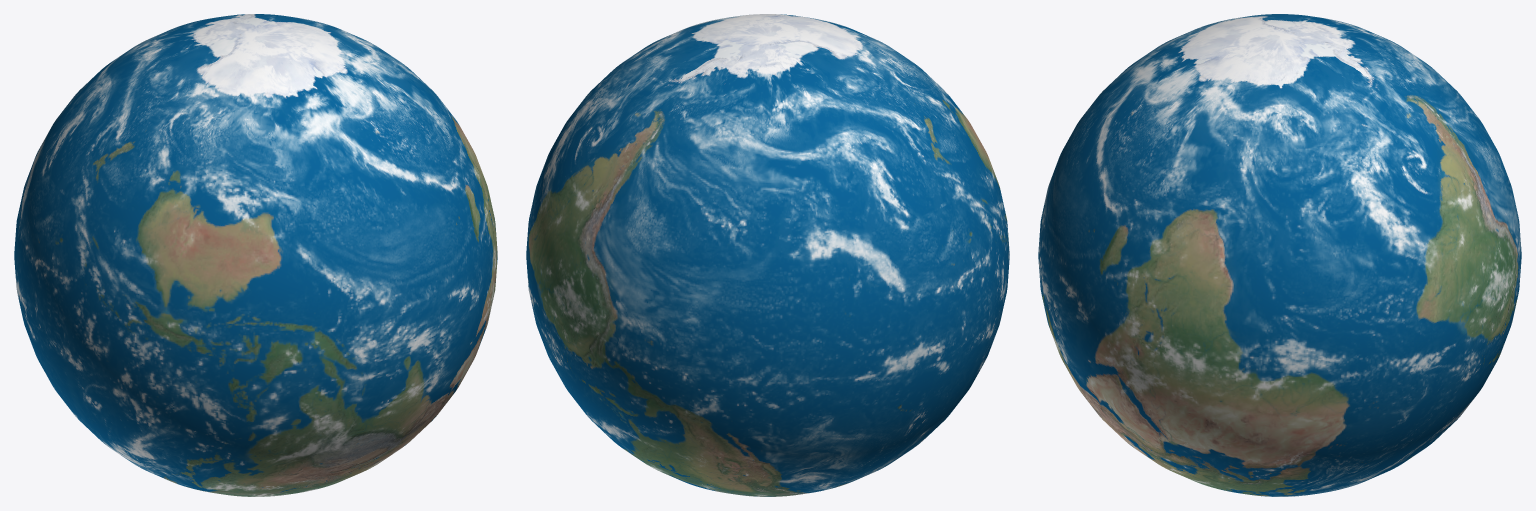
File: earth.obj
The picture shows the model from 3 angles, left to right: view 1: azimuth 30°, elevation 25°; view 2: azimuth 150°, elevation 25°; view 3: azimuth 270°, elevation 25°; orthographic projection.
Parts seen in each view (by area): view 1: Sphere_Sphere.006; view 2: Sphere_Sphere.006; view 3: Sphere_Sphere.006.
Part boxes in pixels (x1,y1,x2,y2): Sphere_Sphere.006: (14, 14, 497, 496); Sphere_Sphere.006: (526, 14, 1009, 496); Sphere_Sphere.006: (1038, 14, 1521, 496).
Size of the model in its own units: 2 by 2 by 2.
1 material, 1 textured.
